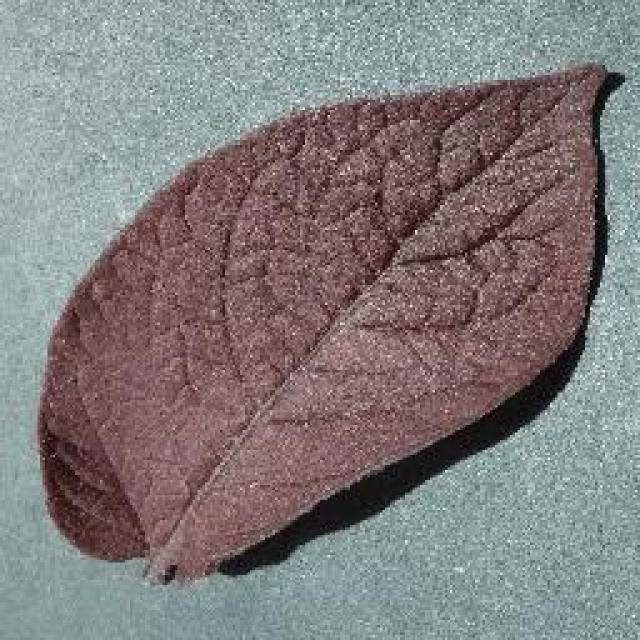Potato___healthy: (34, 57, 612, 595)
